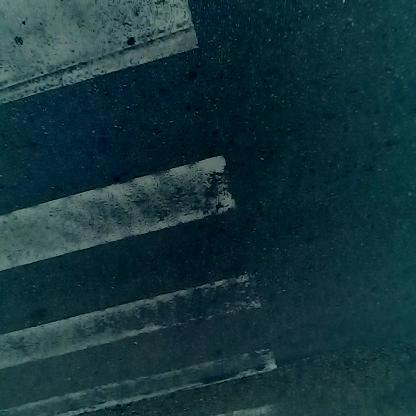crosswalk: (3, 16, 295, 399)
